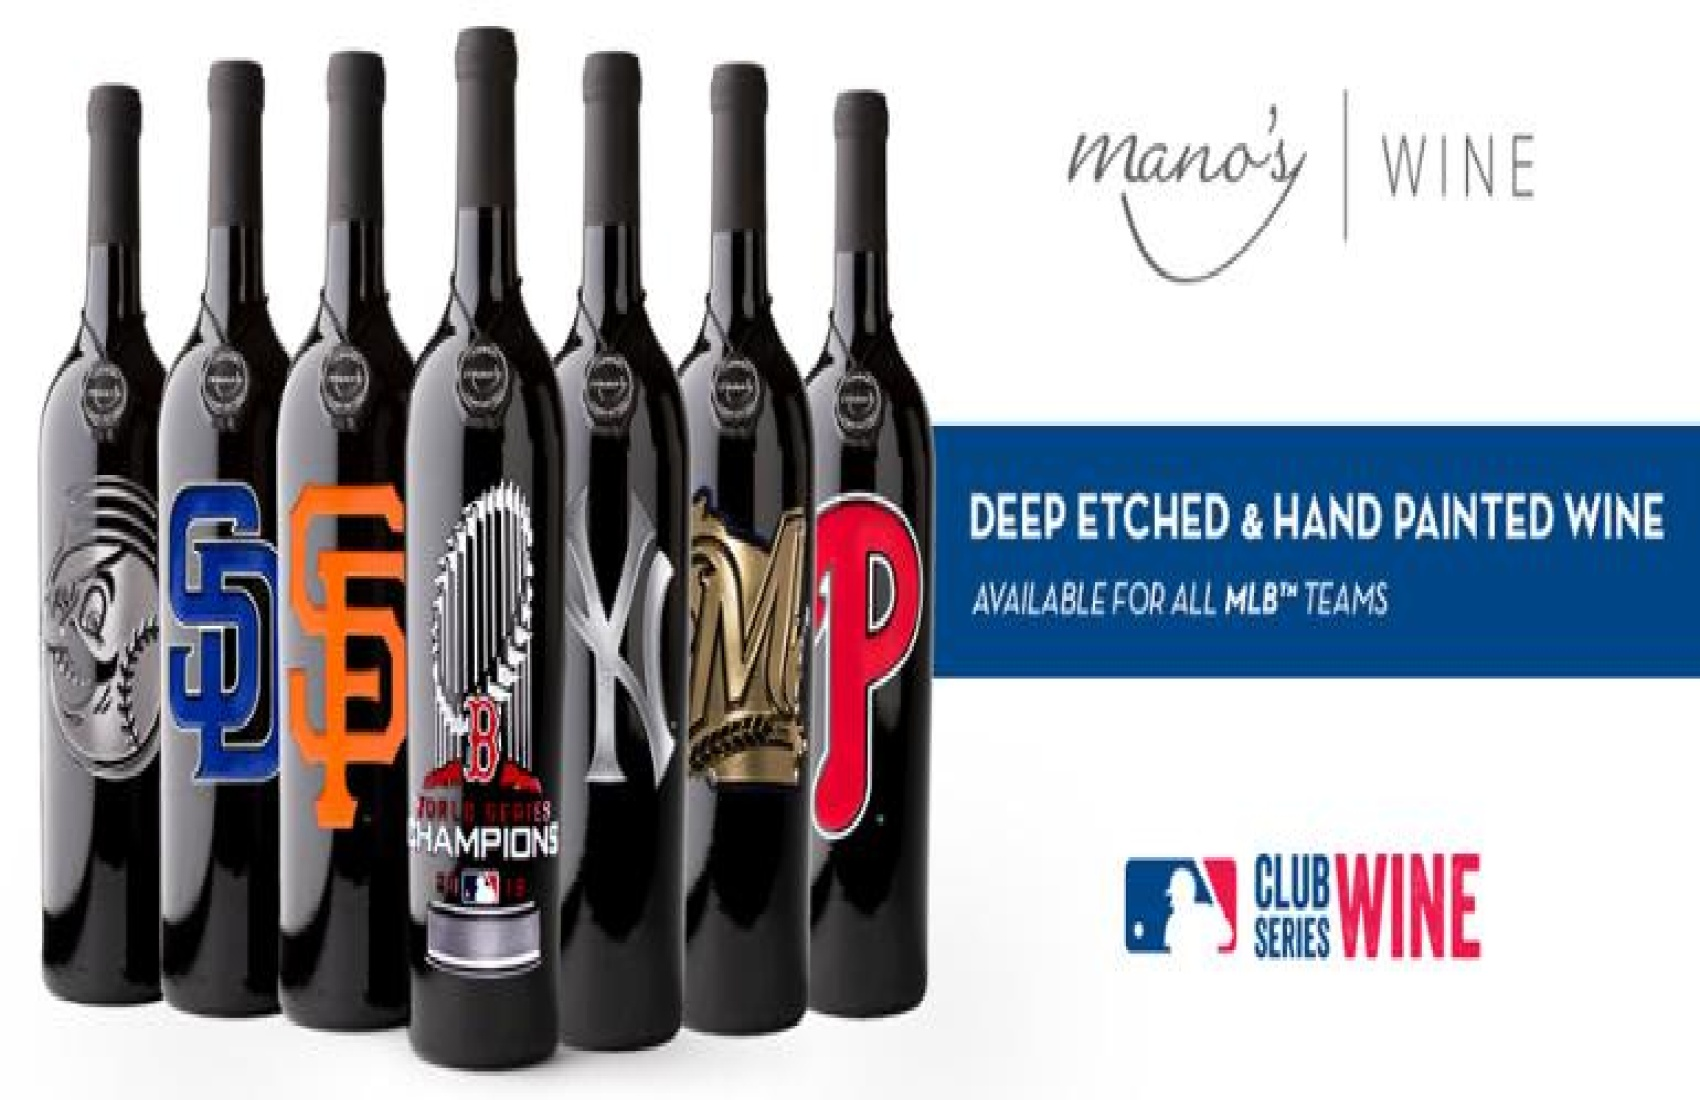wine: (406, 53, 559, 1070), (161, 53, 292, 1021), (566, 25, 685, 1034), (294, 47, 406, 1024), (824, 16, 926, 1031), (690, 22, 792, 1037)
